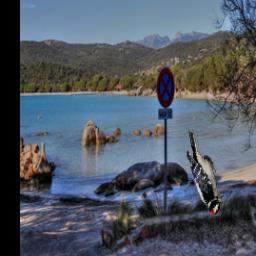Woodpecker: (186, 129, 224, 215)
